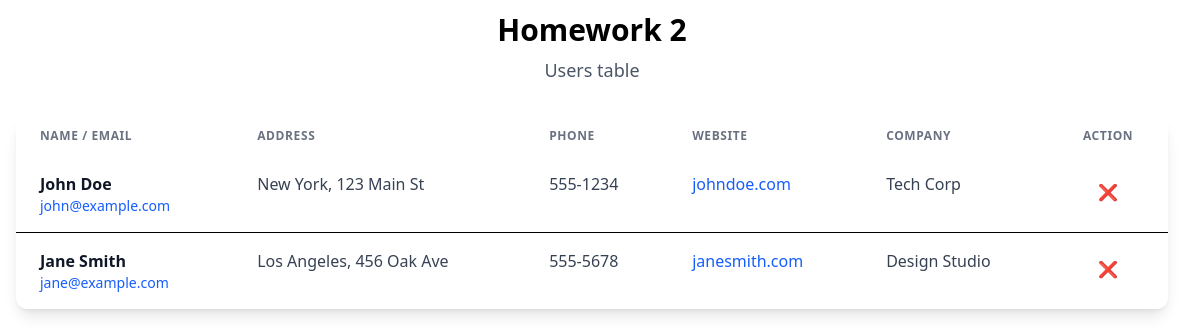
Test: App › User Interactions › should delete user when delete button is clicked
Expected: the text "John Doe" is shown, x1=40 y1=173 x2=112 y2=195
Expected: the text "Jane Smith" is shown, x1=40 y1=250 x2=126 y2=272
Click the button named "Delete user": (1108, 192) x1=1090 y1=172 x2=1126 y2=212
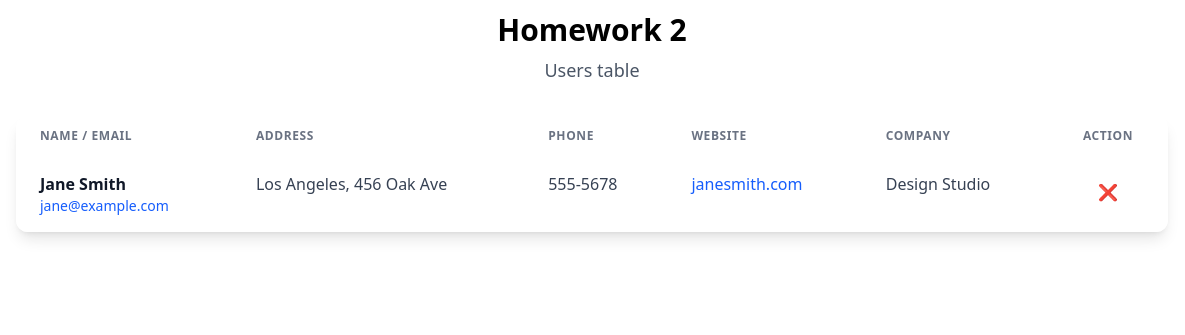
Expected: the text "Jane Smith" is shown, x1=40 y1=173 x2=126 y2=195
Result: the text "John Doe" is gone
